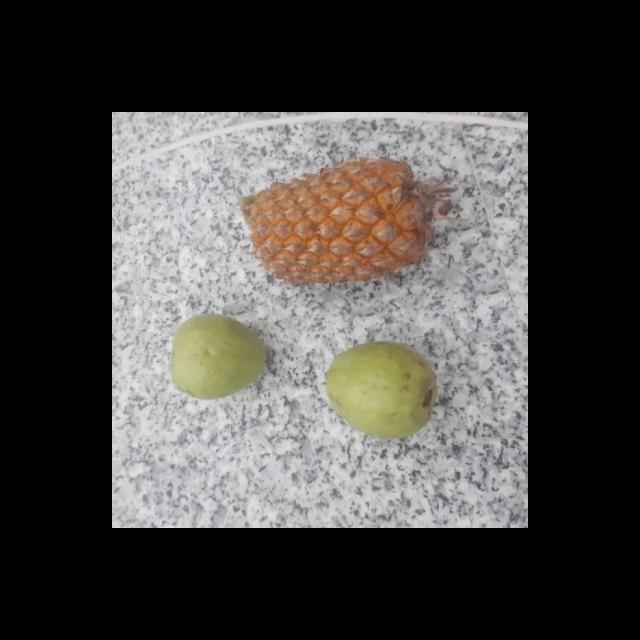guava: (325, 343, 439, 437), (170, 315, 270, 398)
pineapple: (243, 156, 447, 288)
